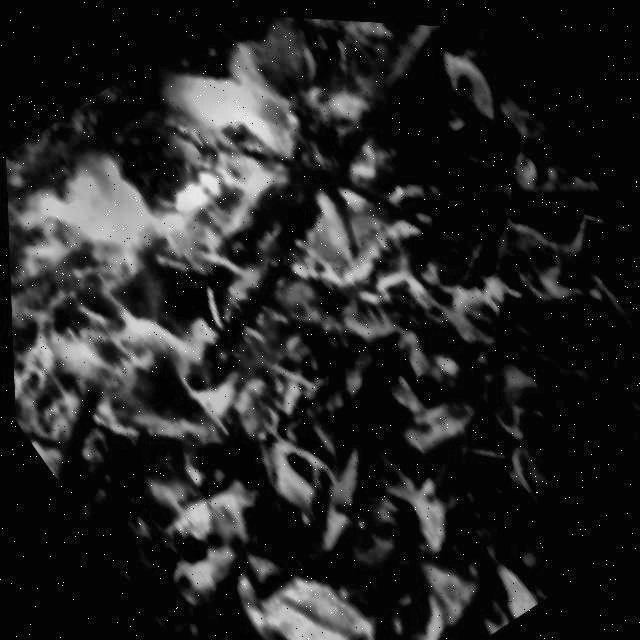Fire: (0, 0, 485, 519)
